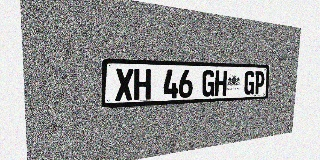4: (163, 69, 179, 99)
6: (178, 70, 193, 98)
G: (202, 70, 215, 97), (244, 71, 255, 95)
H: (134, 69, 151, 100), (214, 70, 227, 96)
P: (254, 71, 265, 94)
X: (115, 68, 133, 101)
